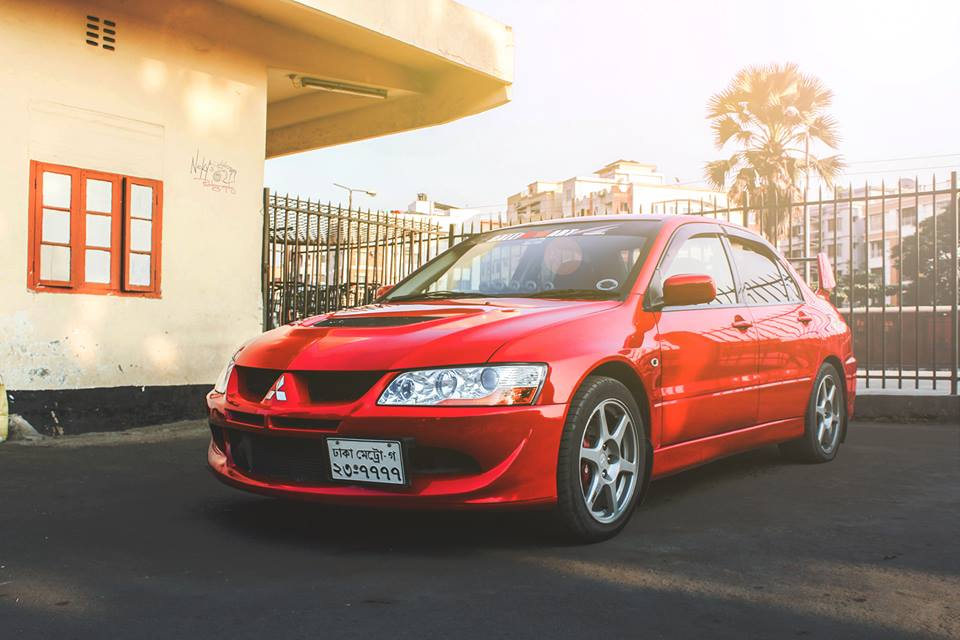registration_plate: (326, 438, 404, 485)
